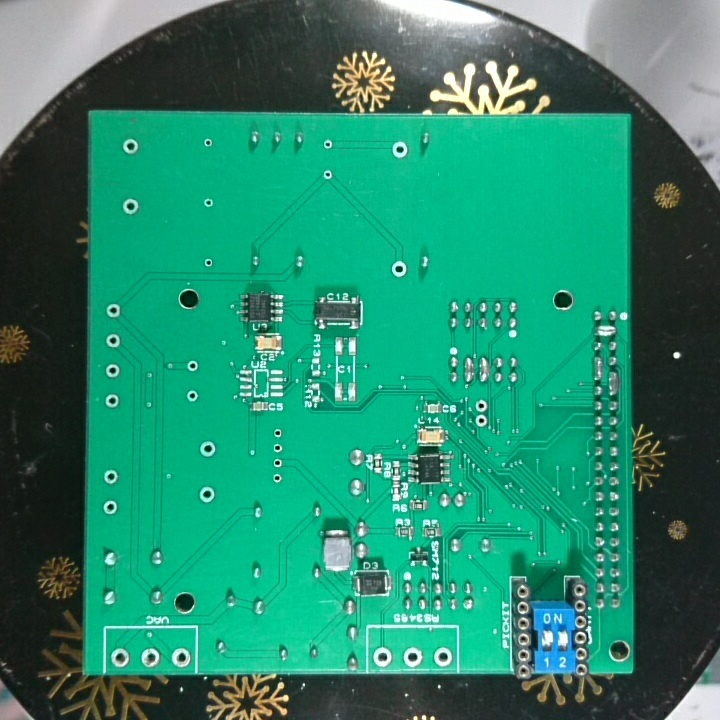F: (430, 644, 455, 670), (401, 645, 425, 671), (109, 644, 131, 672), (118, 194, 142, 219), (371, 643, 394, 669), (139, 644, 161, 671), (168, 646, 192, 669), (99, 466, 122, 489), (198, 438, 219, 461), (120, 135, 142, 156), (197, 484, 217, 506), (102, 361, 122, 382), (102, 390, 122, 411), (100, 498, 120, 518), (102, 301, 123, 320), (390, 259, 410, 278), (103, 330, 123, 349), (390, 139, 408, 160), (183, 387, 201, 406), (472, 413, 491, 430), (184, 357, 200, 376), (269, 453, 285, 472), (473, 398, 490, 414), (319, 166, 335, 183), (200, 135, 216, 152), (268, 470, 284, 487), (201, 256, 216, 272), (201, 194, 214, 212), (319, 138, 334, 153), (269, 440, 284, 455), (271, 425, 284, 441)
P: (606, 367, 622, 397), (591, 323, 619, 339), (462, 355, 476, 386), (590, 354, 605, 382), (477, 354, 490, 384)
